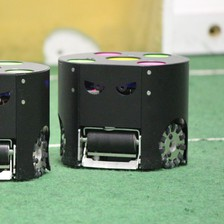robot: (54, 46, 190, 171), (1, 56, 53, 183)
